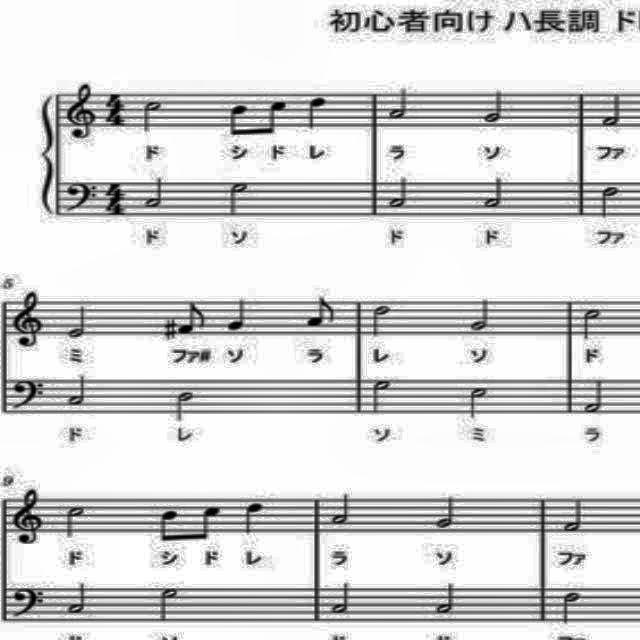Bass-clef: (10, 578, 50, 626), (65, 170, 99, 218), (8, 374, 46, 414)
Diez: (162, 314, 178, 346)
Eighth-note: (192, 494, 224, 546), (220, 94, 252, 140), (154, 499, 182, 549), (304, 294, 340, 332), (259, 94, 289, 138), (175, 299, 209, 337)
Half-note: (152, 584, 184, 628), (224, 178, 256, 222), (55, 301, 89, 341), (430, 490, 458, 538), (327, 491, 357, 534), (482, 87, 512, 129), (476, 171, 506, 213), (559, 494, 587, 538), (468, 292, 496, 336), (598, 88, 626, 132), (597, 184, 627, 224), (168, 387, 196, 429), (580, 301, 608, 343), (580, 378, 610, 417), (382, 176, 414, 212), (368, 300, 394, 344), (138, 172, 166, 212), (386, 80, 412, 122), (57, 504, 89, 538), (432, 579, 460, 617), (138, 97, 166, 135), (63, 370, 89, 410), (369, 379, 396, 417), (65, 582, 91, 618), (328, 580, 352, 616), (466, 385, 489, 419), (560, 589, 580, 625)
Quarter-note: (305, 93, 331, 131), (224, 295, 250, 333), (240, 499, 266, 537)
Treble-clef: (10, 285, 54, 353), (62, 77, 101, 143), (9, 488, 51, 548)
